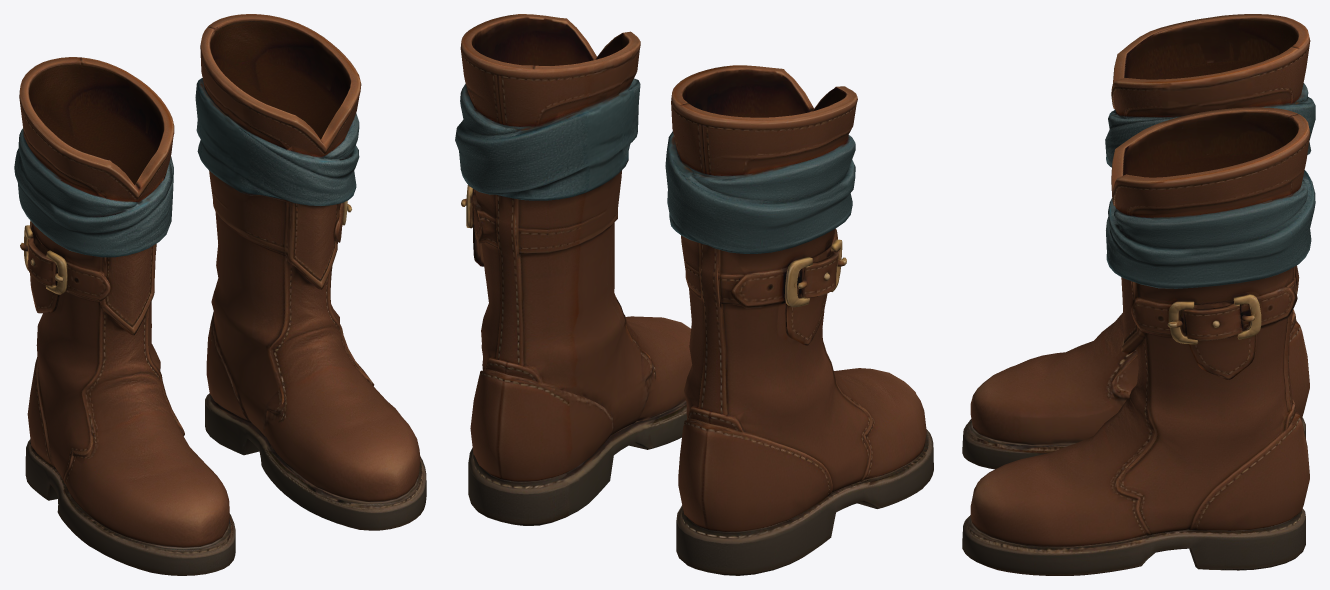
The model's file is warden-boots-tripo.glb.
The picture shows the model from 3 angles, left to right: view 1: azimuth 30°, elevation 25°; view 2: azimuth 150°, elevation 25°; view 3: azimuth 270°, elevation 25°; orthographic projection. The views are drawn at different scales.
Parts seen in each view (by area): view 1: tripo_node_b475f9aa-b713-449c-a805-2c81a7efc7ca; view 2: tripo_node_b475f9aa-b713-449c-a805-2c81a7efc7ca; view 3: tripo_node_b475f9aa-b713-449c-a805-2c81a7efc7ca.
Part boxes in pixels (left/top/right/bottom): tripo_node_b475f9aa-b713-449c-a805-2c81a7efc7ca: left=14, top=14, right=426, bottom=575; tripo_node_b475f9aa-b713-449c-a805-2c81a7efc7ca: left=455, top=14, right=933, bottom=575; tripo_node_b475f9aa-b713-449c-a805-2c81a7efc7ca: left=962, top=14, right=1315, bottom=575.
Bounding box in the file's own units: 0.8755 × 0.9995 × 0.7622.
Materials: 1 (1 with a texture image).
